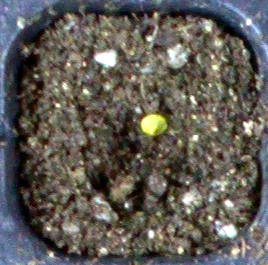chilli seed: (140, 113, 167, 135)
